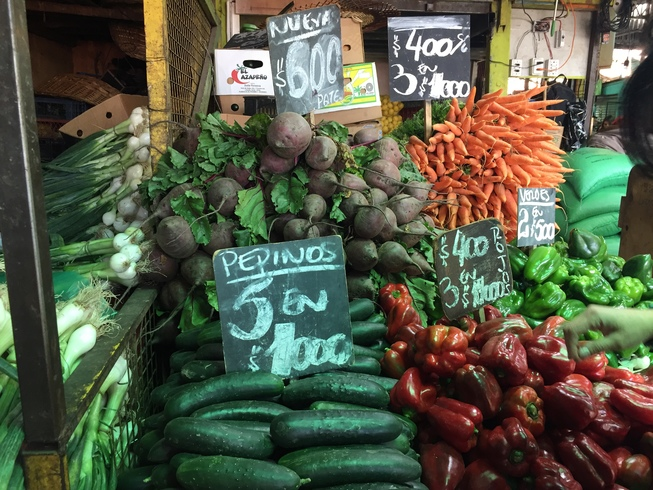precio: (214, 243, 354, 376), (266, 12, 345, 113), (386, 16, 475, 103), (438, 227, 515, 314), (514, 184, 561, 247)
